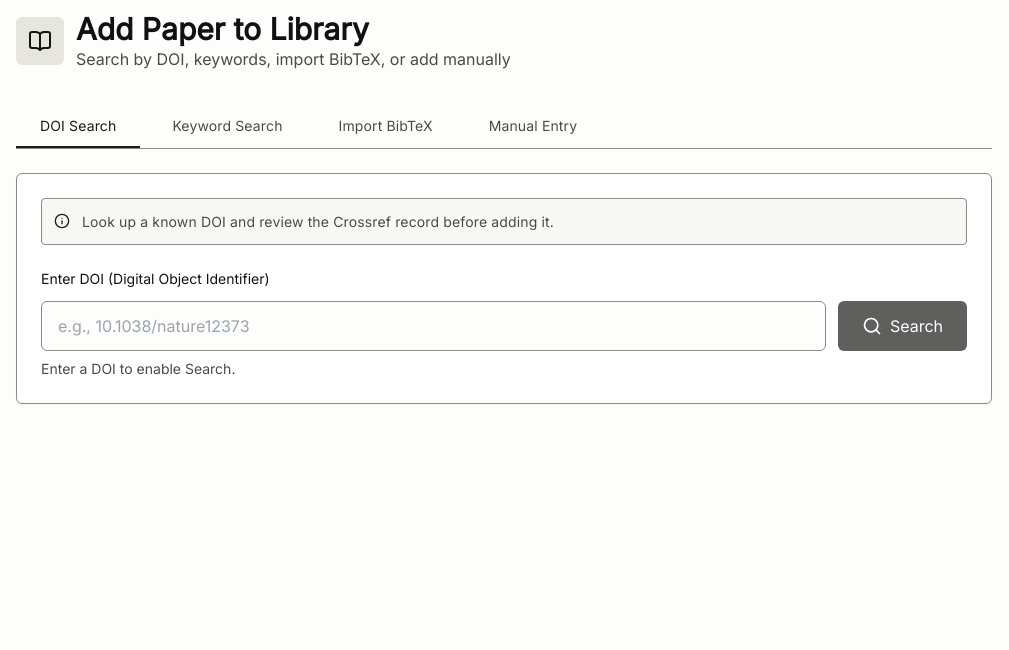
AddPaperView Component › DOI Search › should search paper by DOI
Step 1. Type "10.1234/test.doi" into the field with placeholder "e.g., 10.1038/nature12373" → (433, 326), box [41,301,826,351]
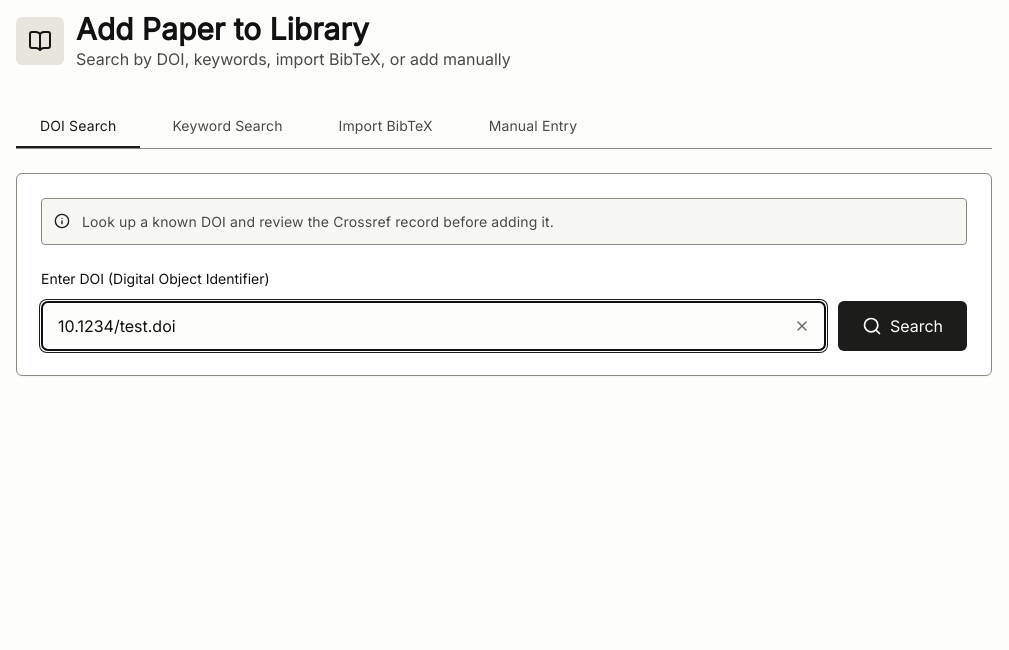
Step 2. Click the button "Search" → (902, 326), box [838,301,967,351]
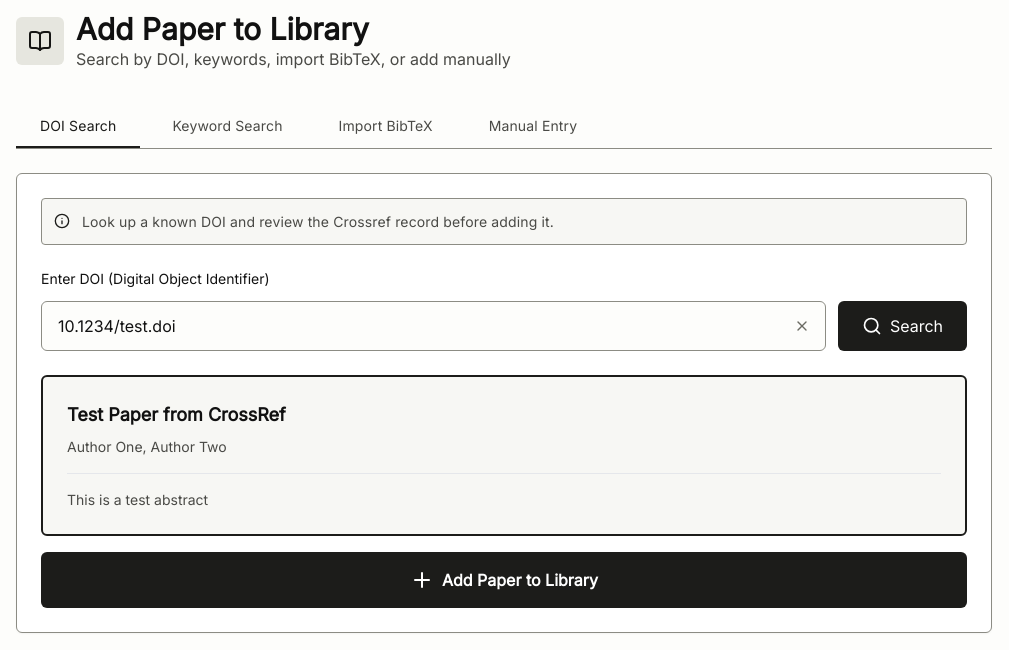
Now the heading "Test Paper from CrossRef" is shown, box [67,404,286,425]
